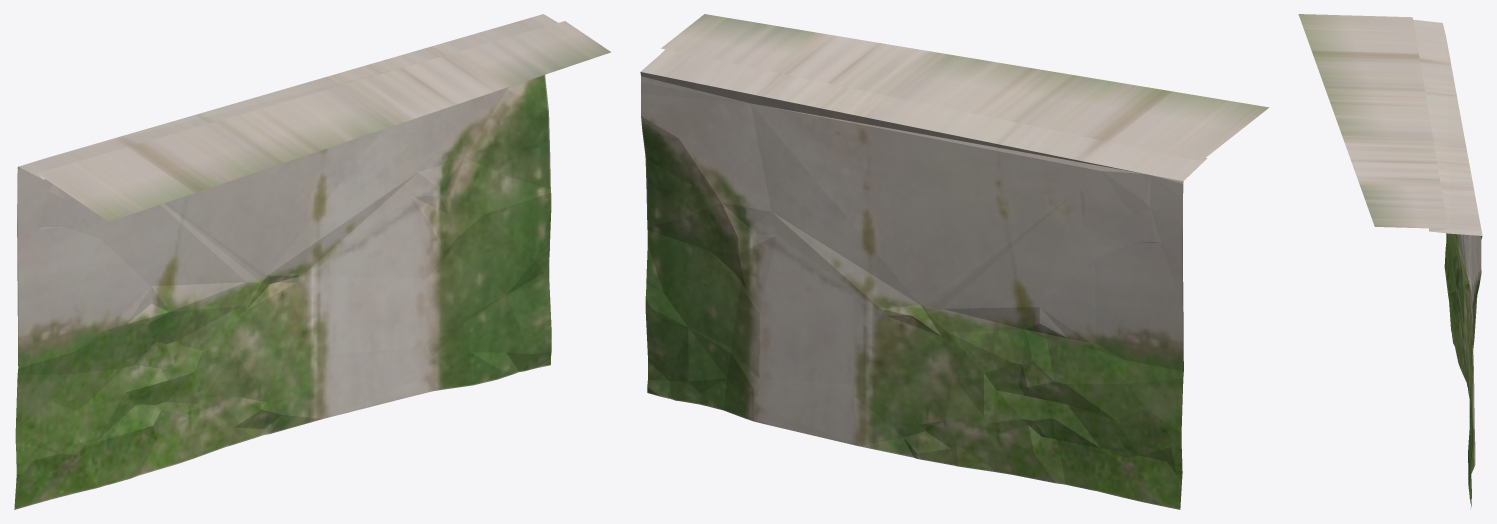
The model's file is map_270_80.obj.
3 views of the same model, side by side, from view 1: azimuth 30°, elevation 25°; view 2: azimuth 150°, elevation 25°; view 3: azimuth 270°, elevation 25° (orthographic). The views are drawn at different scales.
Parts seen in each view (by area): view 1: grp1; view 2: grp1; view 3: grp1.
Boxes of the visible parts, x1,y1,x2,y2 form: grp1: (14, 14, 610, 509); grp1: (640, 14, 1269, 509); grp1: (1298, 14, 1482, 508).
Bounding box in the file's own units: 10 × 6.2 × 3.66.
1 material, 1 textured.
